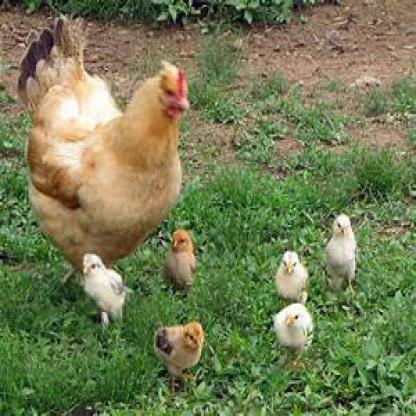chicken: (15, 16, 190, 294), (79, 250, 135, 330), (151, 317, 207, 392), (324, 215, 358, 295), (272, 304, 315, 366), (164, 228, 201, 295), (275, 250, 312, 304)
